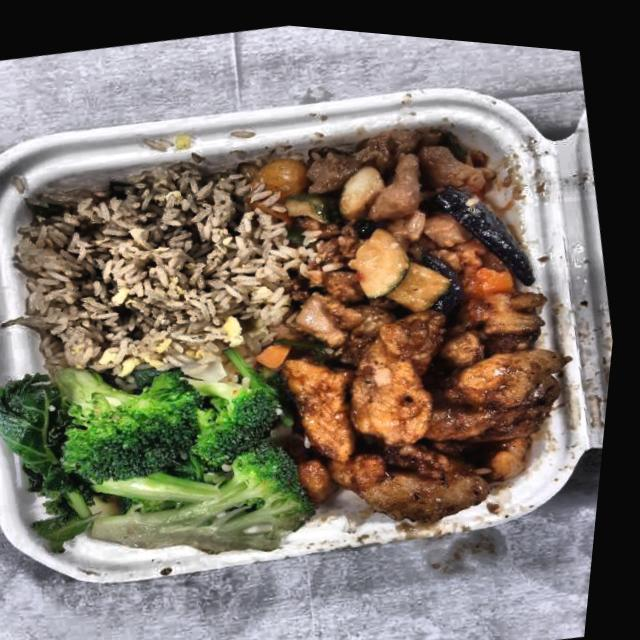Food: (232, 228, 624, 568), (0, 302, 345, 598), (0, 120, 338, 416), (237, 87, 572, 380)
